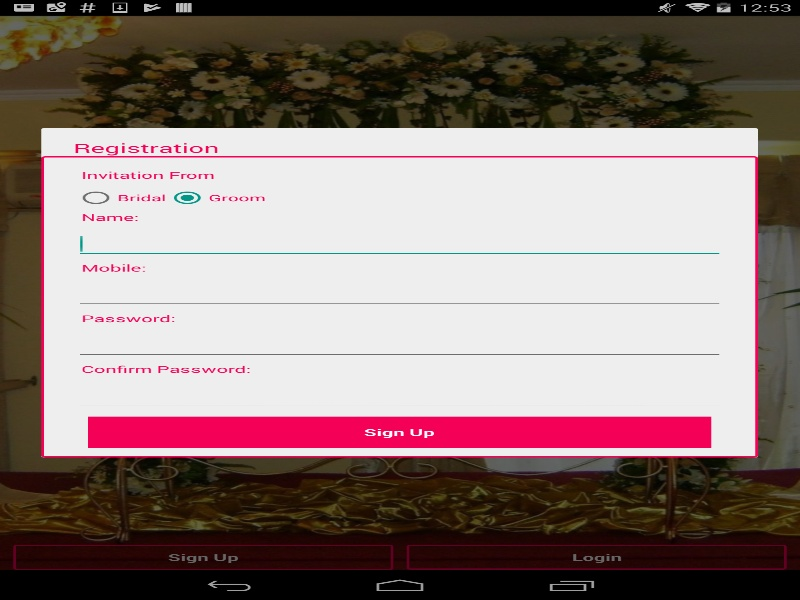Input: (74, 280, 724, 309), (74, 381, 724, 410), (74, 230, 724, 258), (74, 331, 724, 359)
